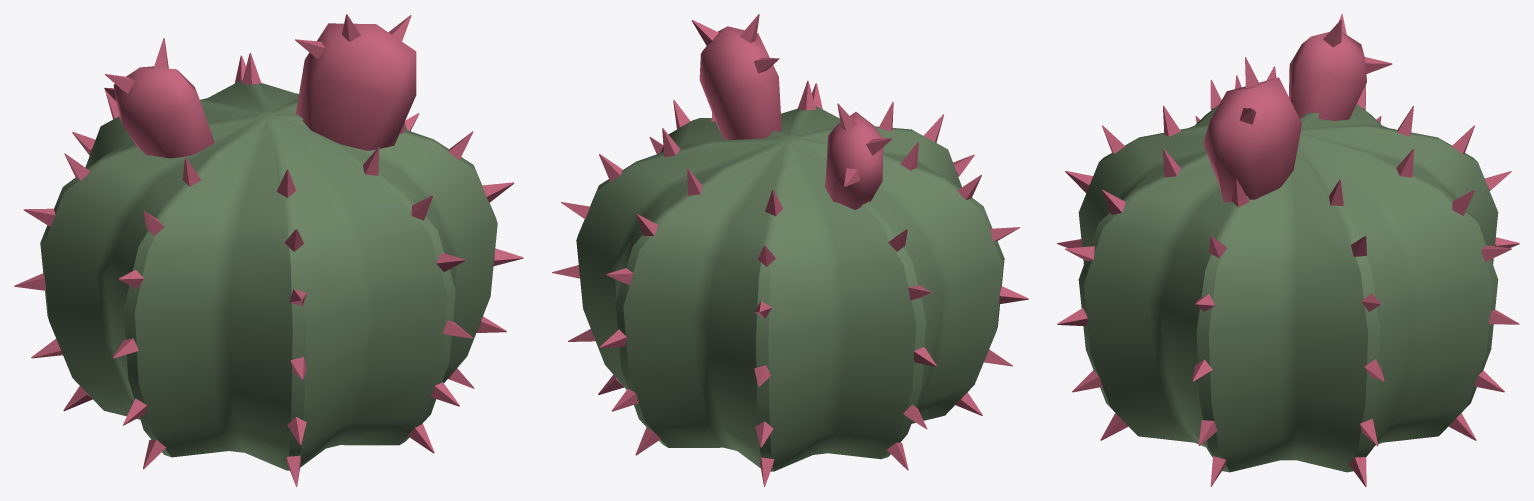
File: SM_cactusC_v1.fbx
The picture shows the model from 3 angles, left to right: view 1: azimuth 30°, elevation 25°; view 2: azimuth 150°, elevation 25°; view 3: azimuth 270°, elevation 25°; orthographic projection. The views are drawn at different scales.
Visible parts, largest first — view 1: cactusC_msh; view 2: cactusC_msh; view 3: cactusC_msh.
Boxes of the visible parts, x1,y1,x2,y2 form: cactusC_msh: [14, 14, 523, 486]; cactusC_msh: [552, 14, 1028, 486]; cactusC_msh: [1057, 14, 1519, 486].
Size of the model in its own units: 1.66 by 1.58 by 1.67.
